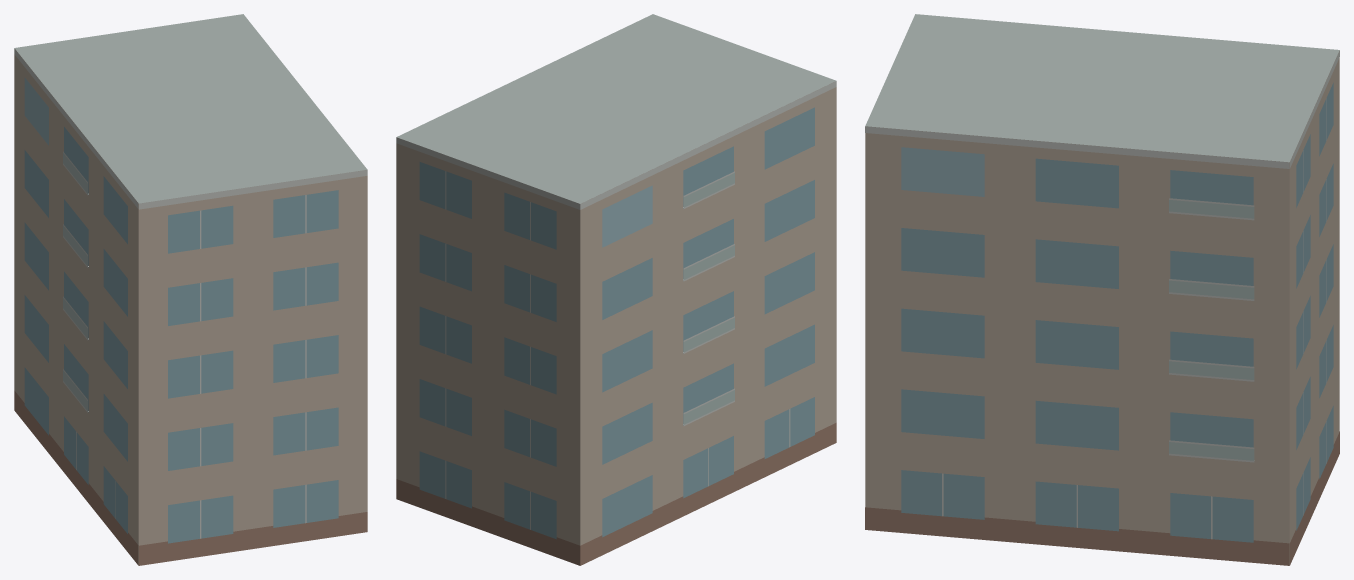
File: survey-upis-32885878.glb
The picture shows the model from 3 angles, left to right: view 1: azimuth 30°, elevation 25°; view 2: azimuth 150°, elevation 25°; view 3: azimuth 270°, elevation 25°; orthographic projection. The views are drawn at different scales.
Parts seen in each view (by area): view 1: survey-upis-32885878.tmp; view 2: survey-upis-32885878.tmp; view 3: survey-upis-32885878.tmp.
Boxes of the visible parts, x1,y1,x2,y2 form: survey-upis-32885878.tmp: (14,14,367,565); survey-upis-32885878.tmp: (396,14,836,565); survey-upis-32885878.tmp: (865,14,1339,565).
Bounding box in the file's own units: 11.51 × 14.6 × 15.57.
